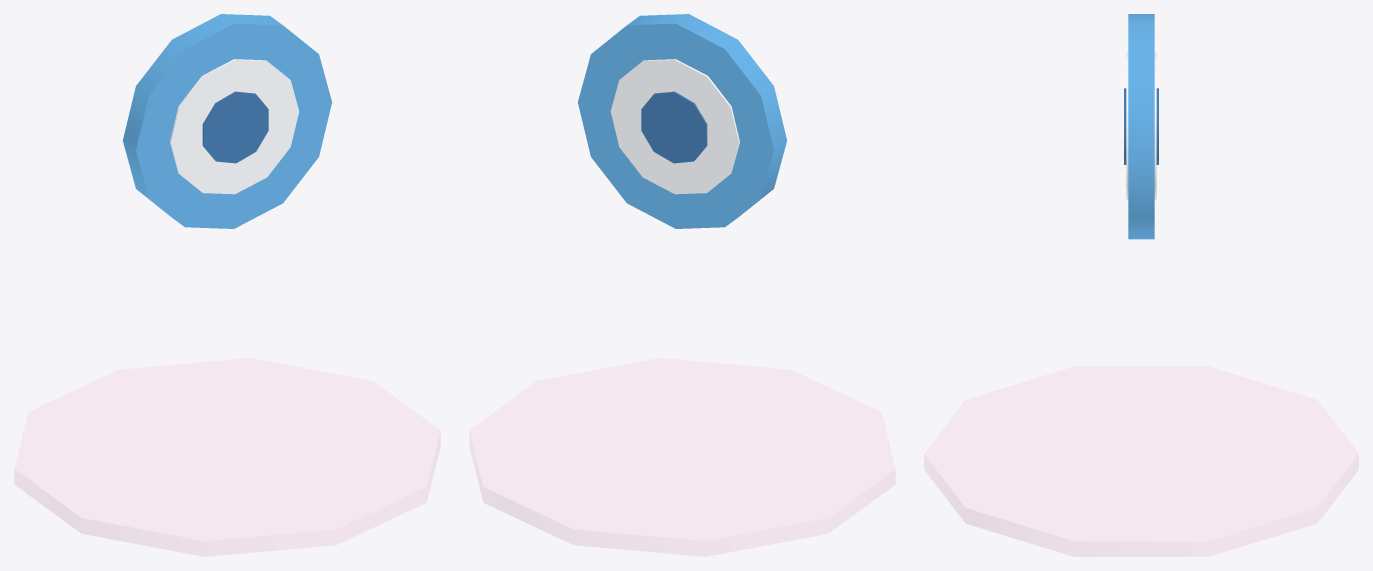
The model's file is nazar.glb.
3 views of the same model, side by side, from view 1: azimuth 30°, elevation 25°; view 2: azimuth 150°, elevation 25°; view 3: azimuth 270°, elevation 25° (orthographic).
Size of the model in its own units: 0.9511 by 1.13 by 1.
